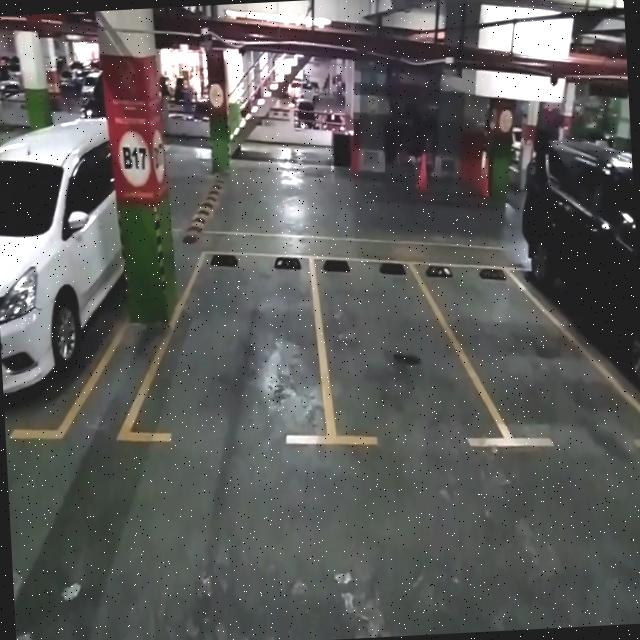empty: (140, 249, 329, 451), (448, 254, 602, 452), (318, 248, 464, 450)
occupied: (0, 146, 125, 442)
